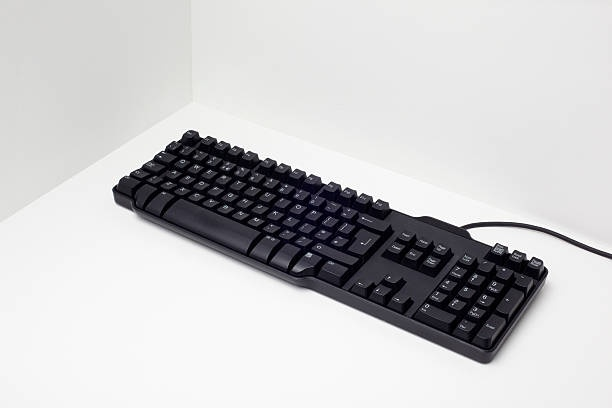keyboard: (110, 128, 548, 365)
